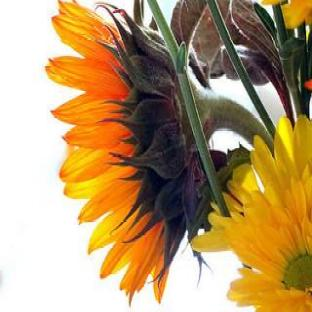sunflower: (45, 0, 274, 306)
